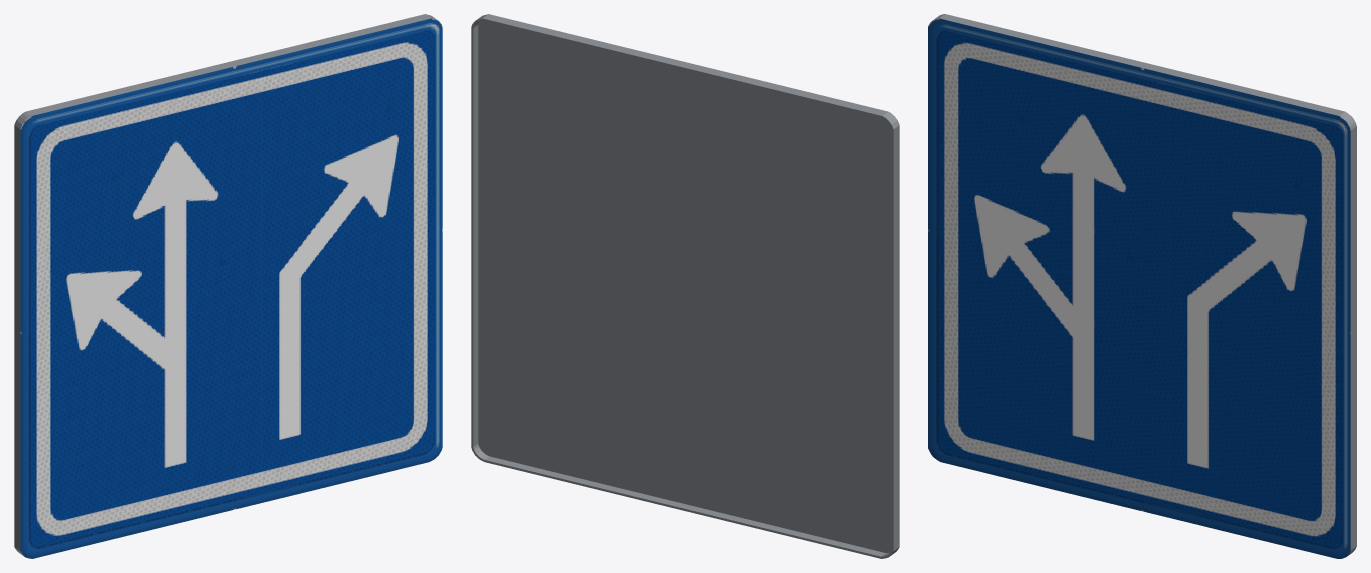
The picture shows the model from 3 angles, left to right: view 1: azimuth 30°, elevation 25°; view 2: azimuth 150°, elevation 25°; view 3: azimuth 330°, elevation 25°; orthographic projection.
Parts seen in each view (by area): view 1: cat_acfece39b564385d; view 2: cat_acfece39b564385d; view 3: cat_acfece39b564385d.
Part boxes in pixels (left/top/right/bottom): cat_acfece39b564385d: left=14, top=14, right=442, bottom=558; cat_acfece39b564385d: left=471, top=14, right=899, bottom=558; cat_acfece39b564385d: left=928, top=14, right=1356, bottom=558.
Bounding box in the file's own units: 0.6 × 0.015 × 0.6014.
2 materials, 1 textured.
